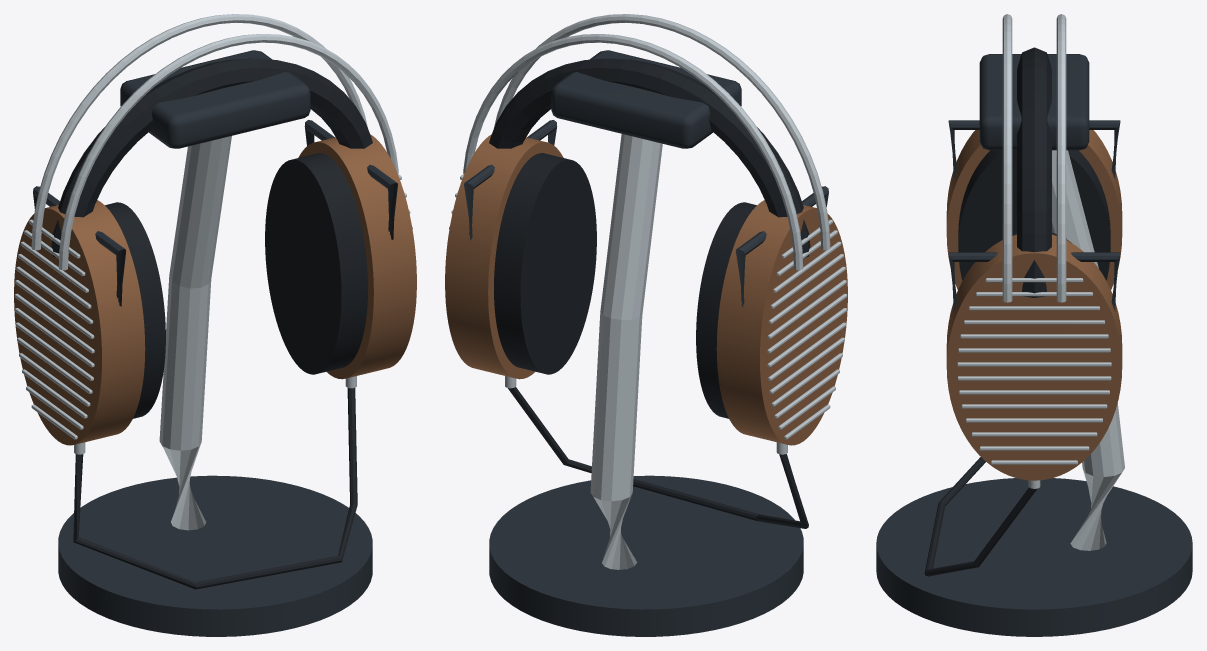
File: hifiman-manta.glb
3 views of the same model, side by side, from view 1: azimuth 30°, elevation 25°; view 2: azimuth 150°, elevation 25°; view 3: azimuth 270°, elevation 25° (orthographic).
Visible parts, largest first — view 1: hifiman-manta authored assembly; view 2: hifiman-manta authored assembly; view 3: hifiman-manta authored assembly.
Boxes of the visible parts, <box> form: hifiman-manta authored assembly: <box>14,14,416,636</box>; hifiman-manta authored assembly: <box>445,14,847,636</box>; hifiman-manta authored assembly: <box>876,14,1192,636</box>.
Bounding box in the file's own units: 0.21 × 0.32 × 0.17.
